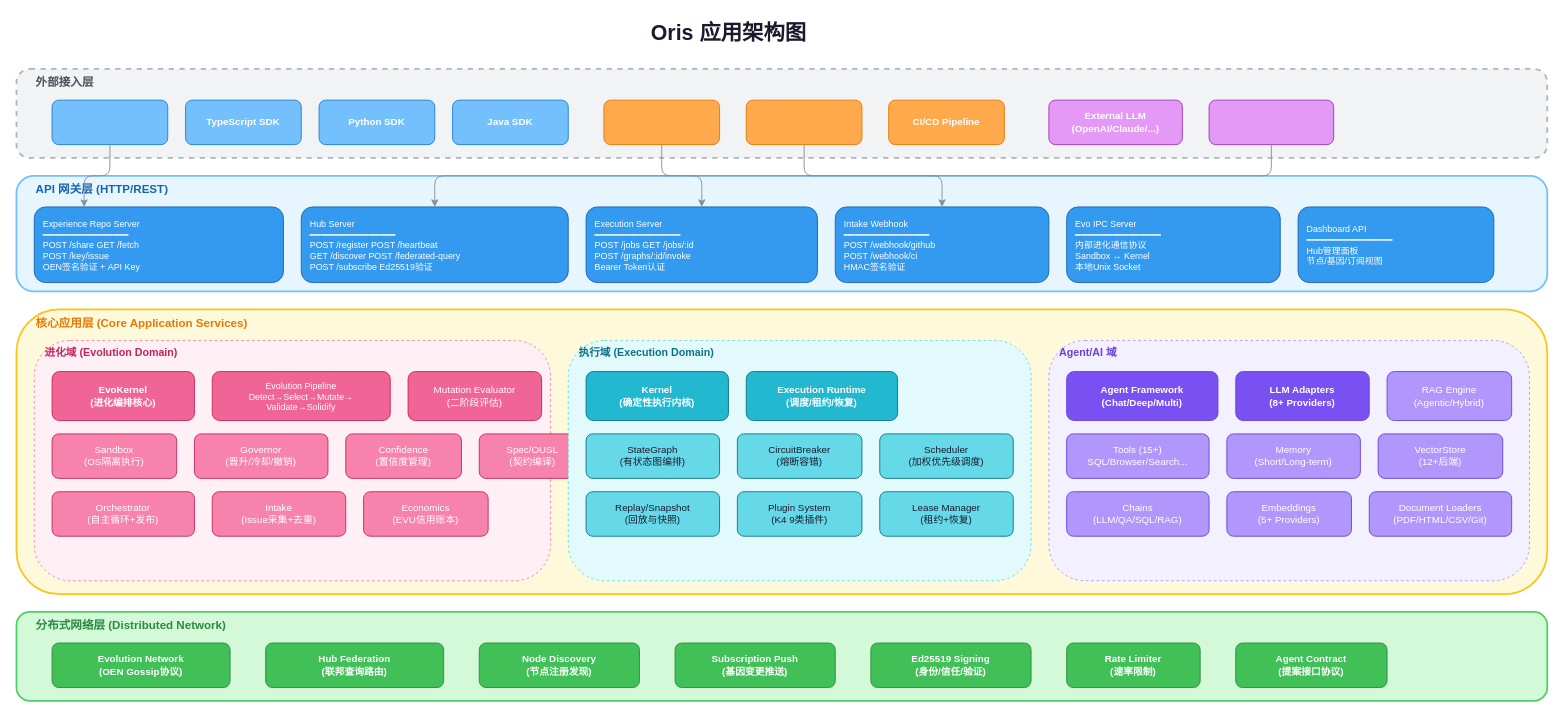
This 1563x716 diagram has some shape labels left out. Each missing label, with the box of its shape:
GitHub Webhooks: (745, 99, 862, 145)
Go SDK Client: (51, 99, 168, 145)
OEN Peer Nodes: (1208, 99, 1334, 145)
Operator CLI: (603, 99, 720, 145)
